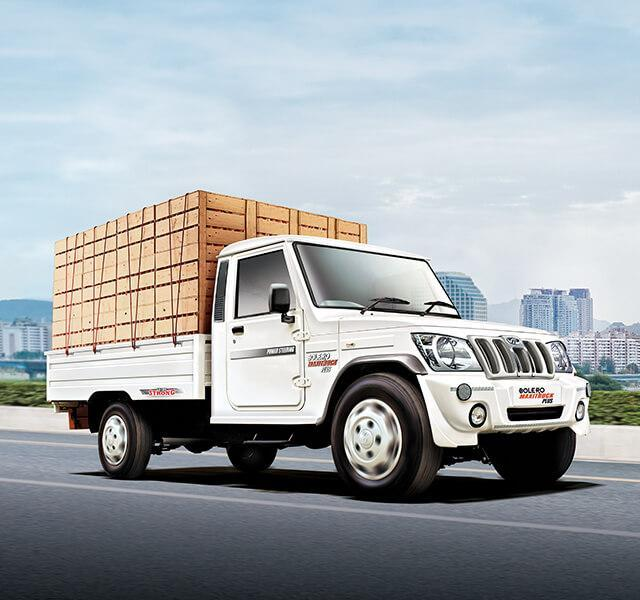truck: (44, 190, 592, 502)
